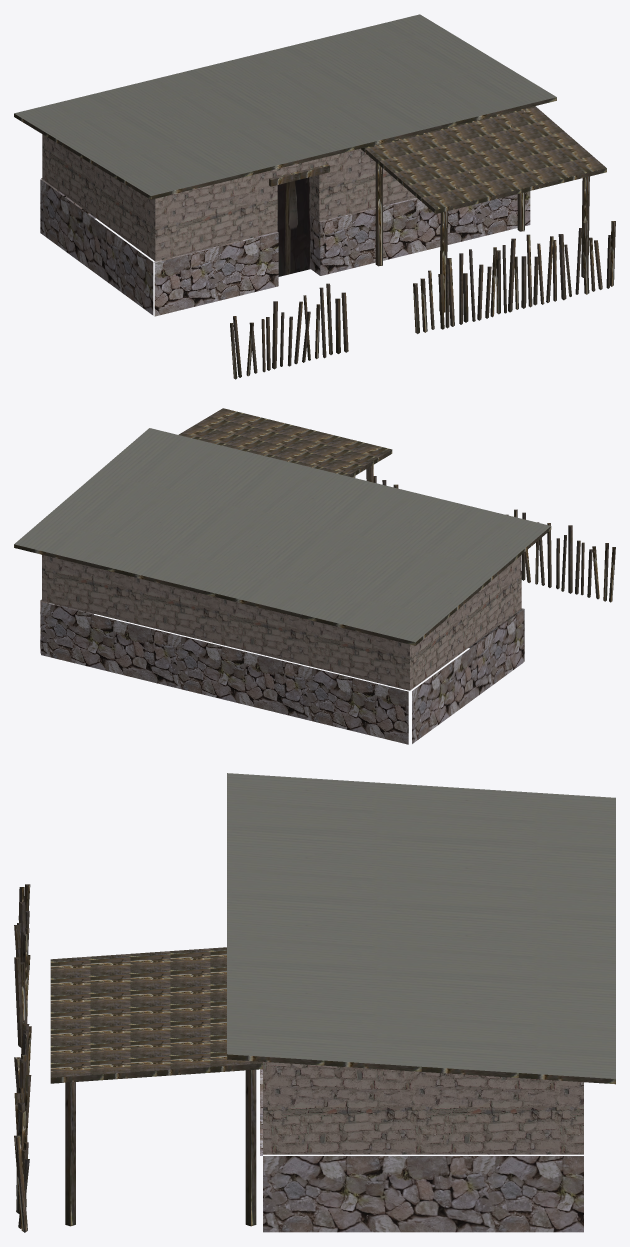
File: v6-rancho.glb
The picture shows the model from 3 angles, top to bottom: view 1: azimuth 30°, elevation 25°; view 2: azimuth 150°, elevation 25°; view 3: azimuth 270°, elevation 25°; orthographic projection. The views are drawn at different scales.
Visible parts, largest first — view 1: v6-rancho; view 2: v6-rancho; view 3: v6-rancho.
Boxes of the visible parts, left/top/right/bottom form: v6-rancho: left=14, top=14, right=615, bottom=379; v6-rancho: left=14, top=408, right=615, bottom=744; v6-rancho: left=14, top=773, right=615, bottom=1232.
Size of the model in its own units: 8.3 by 2.59 by 7.51.
Materials: 5 (5 with a texture image).
